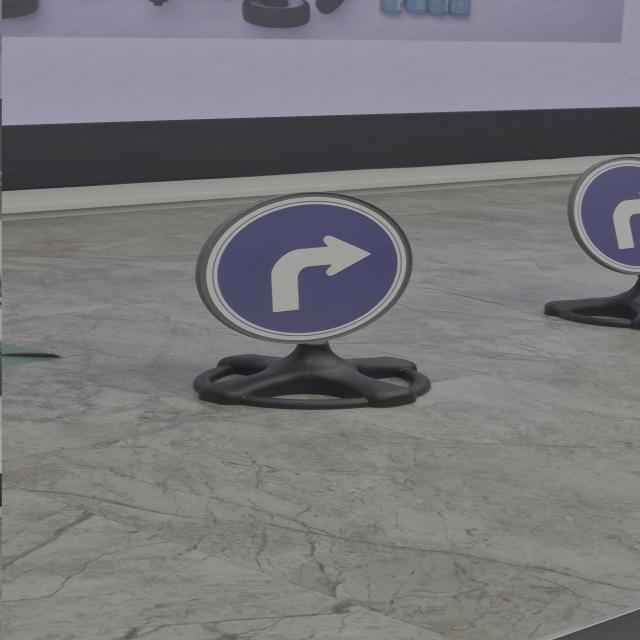right_dierection: (160, 181, 443, 349)
